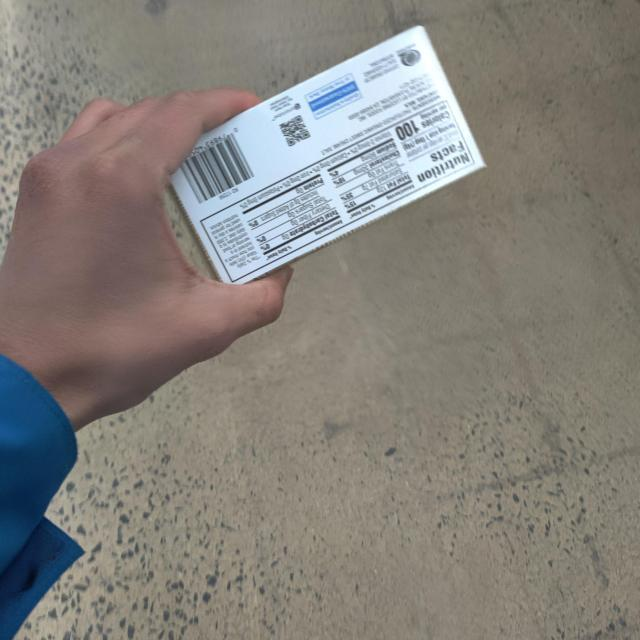Butter: (155, 15, 494, 290)
